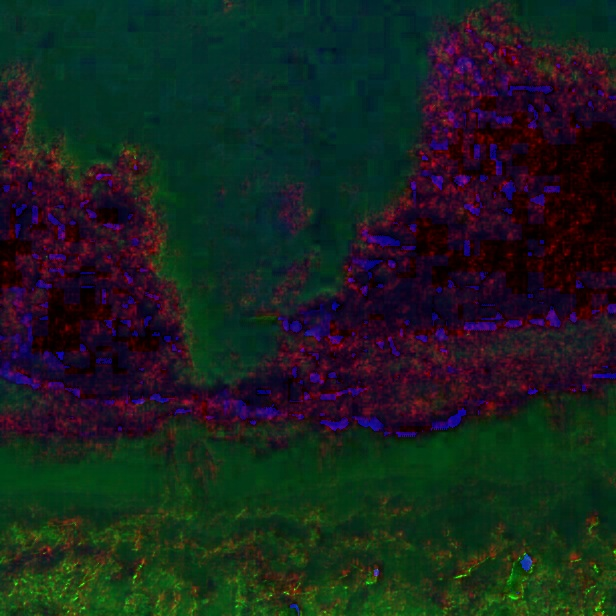rip_current: (105, 81, 402, 396)
